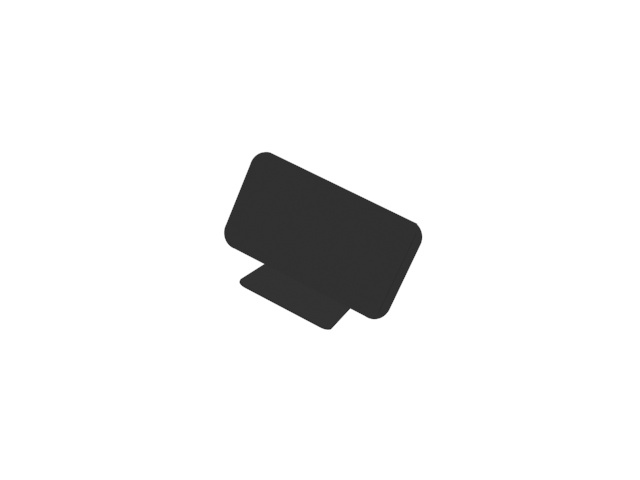monitor: (218, 145, 424, 336)
